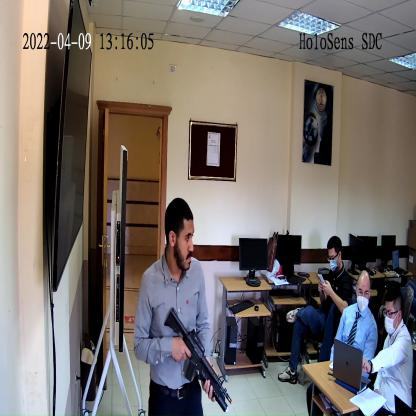handgun: (164, 304, 230, 413)
